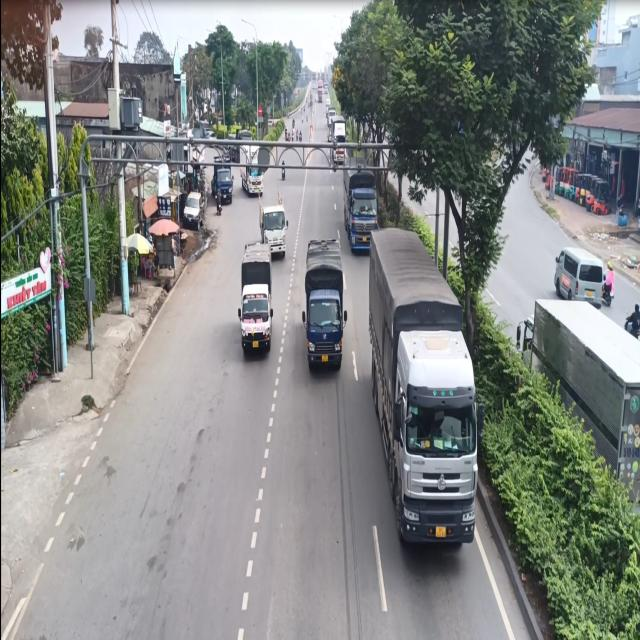truck: (363, 220, 481, 554), (304, 236, 348, 378), (238, 237, 274, 364), (338, 162, 377, 249), (256, 188, 287, 262)
